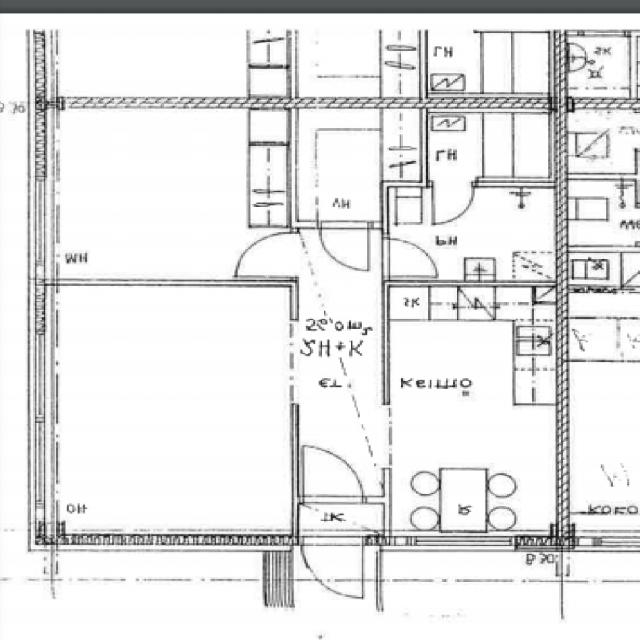door: (301, 535, 363, 601), (302, 448, 362, 502), (236, 233, 296, 276), (322, 222, 368, 266), (382, 238, 434, 276), (433, 181, 473, 221)
